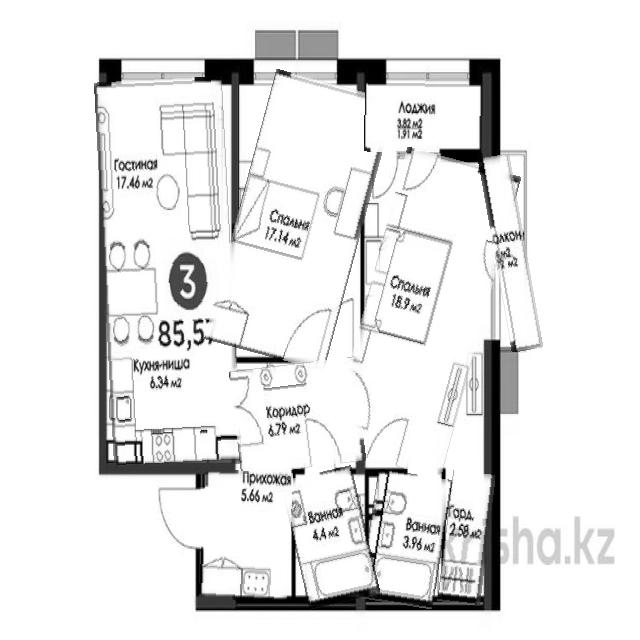balcony: (487, 154, 535, 351), (365, 79, 485, 152)
bathroom: (287, 469, 374, 607), (363, 471, 448, 606)
hallway: (232, 360, 363, 471), (200, 470, 292, 602)
living_room: (347, 152, 502, 473), (221, 75, 379, 365)
other: (441, 471, 492, 605)
studio: (99, 78, 237, 469)
